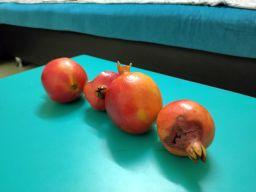pomegranate: (106, 61, 162, 135), (156, 100, 216, 164), (41, 57, 88, 104), (84, 71, 120, 112)
